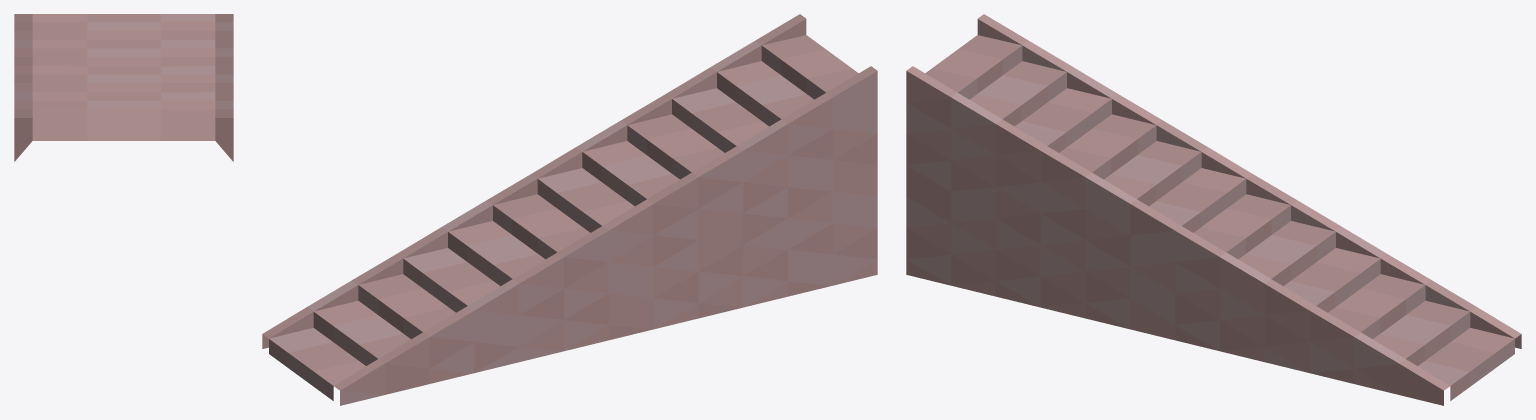
Rendered from Map_CentralStairs03.fbx.
The picture shows the model from 3 angles, left to right: view 1: azimuth 30°, elevation 25°; view 2: azimuth 150°, elevation 25°; view 3: azimuth 270°, elevation 25°; orthographic projection. The views are drawn at different scales.
Visible parts, largest first — view 1: MSH_Path_Narrow_Medium337; view 2: MSH_Path_Narrow_Medium337; view 3: MSH_Path_Narrow_Medium337.
Part boxes in pixels (x1,y1,x2,y2): MSH_Path_Narrow_Medium337: (14,14,233,161); MSH_Path_Narrow_Medium337: (262,14,877,405); MSH_Path_Narrow_Medium337: (906,14,1521,405).
Bounding box in the file's own units: 860 × 435 × 1189.
